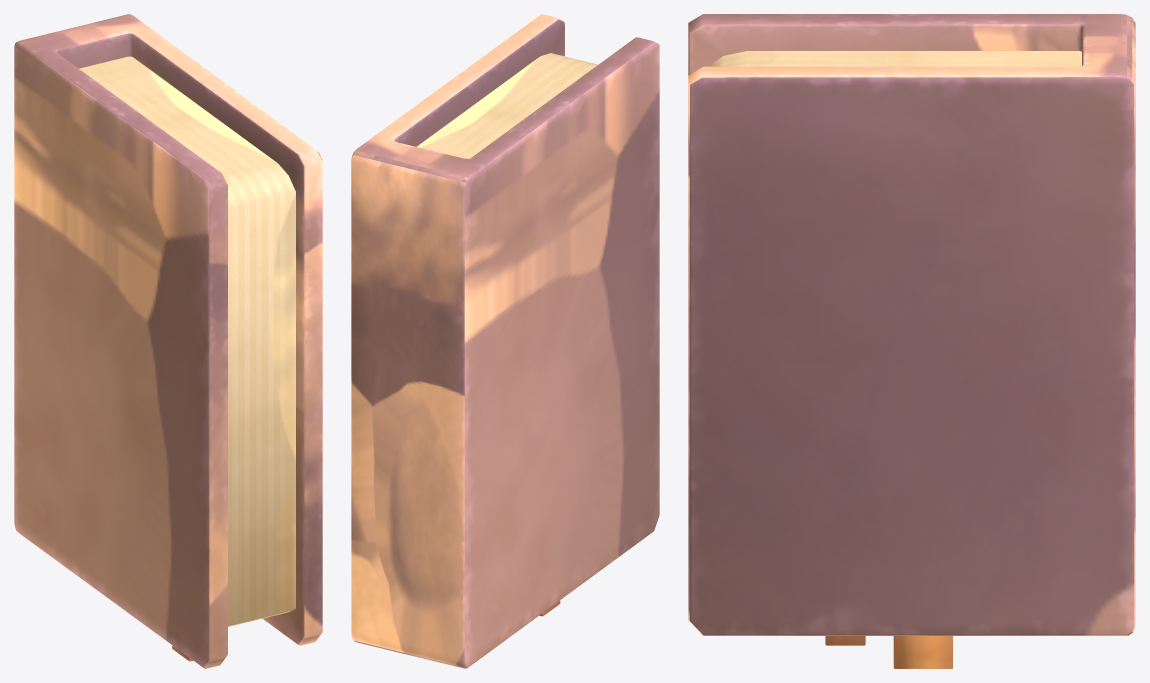
Rendered from SM_Book.fbx.
The picture shows the model from 3 angles, left to right: view 1: azimuth 30°, elevation 25°; view 2: azimuth 150°, elevation 25°; view 3: azimuth 270°, elevation 25°; orthographic projection. The views are drawn at different scales.
Parts seen in each view (by area): view 1: SM_Book_LOD0; view 2: SM_Book_LOD0; view 3: SM_Book_LOD0.
Boxes of the visible parts, <box> form: SM_Book_LOD0: <box>14,14,322,668</box>; SM_Book_LOD0: <box>351,14,659,668</box>; SM_Book_LOD0: <box>688,14,1135,668</box>.
Bounding box in the file's own units: 6.14 × 18.09 × 27.77.
